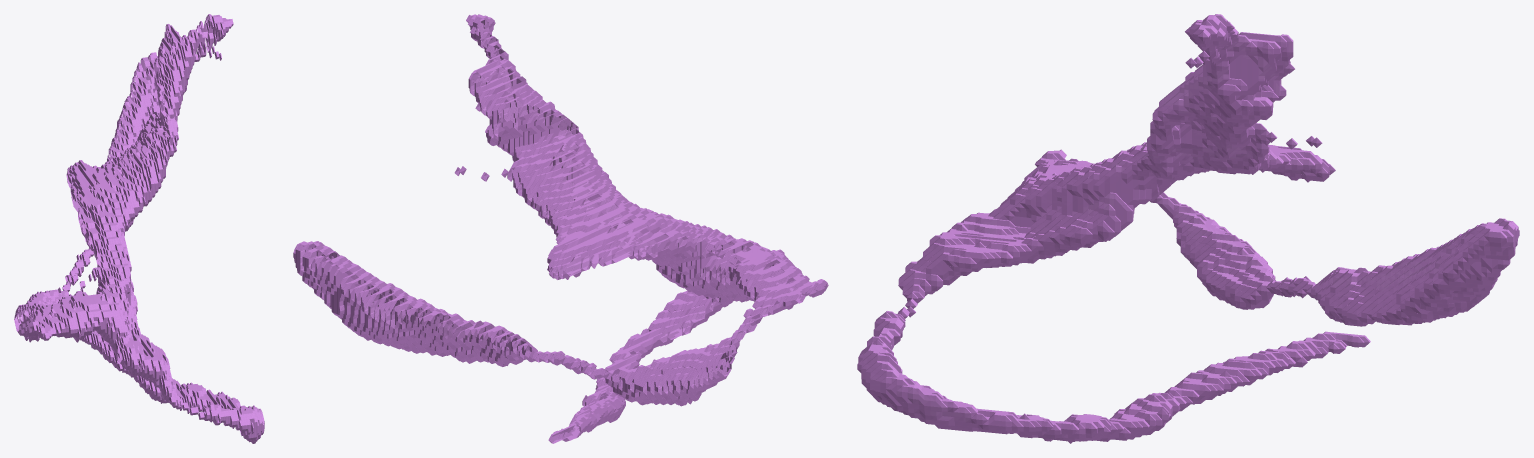
Rendered from SVV_CEPVR.gltf.
3 renders of one model, left to right at view 1: azimuth 30°, elevation 25°; view 2: azimuth 150°, elevation 25°; view 3: azimuth 270°, elevation 25°, orthographic. The views are drawn at different scales.
Parts seen in each view (by area): view 1: CEPVR; view 2: CEPVR; view 3: CEPVR.
Part boxes in pixels (left/top/right/bottom): CEPVR: left=14, top=14, right=264, bottom=443; CEPVR: left=293, top=14, right=828, bottom=443; CEPVR: left=857, top=14, right=1519, bottom=443.
Bounding box in the file's own units: 52283 × 59366 × 74737.
